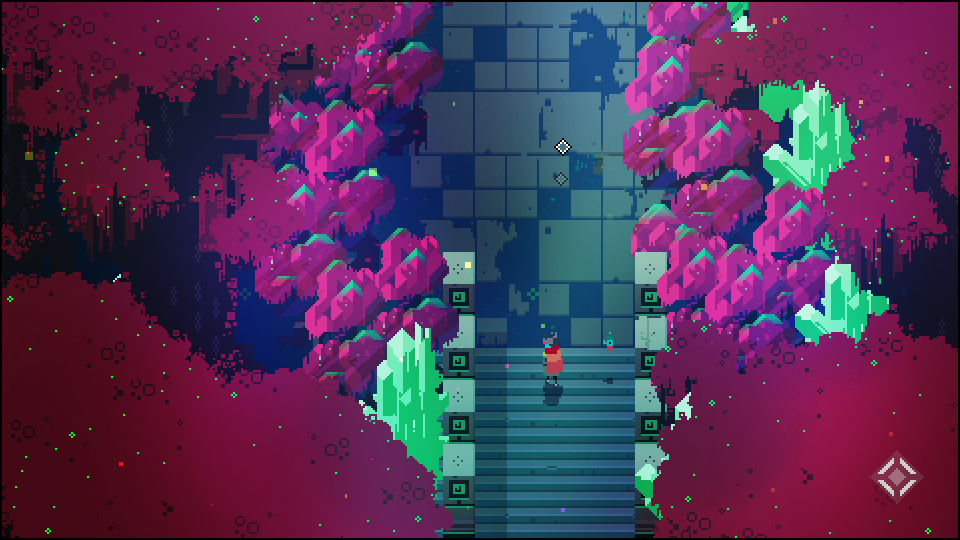player: (537, 333, 567, 390)
